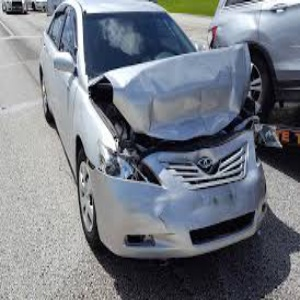bonnet: (114, 45, 253, 141)
bumper: (84, 167, 192, 263)
